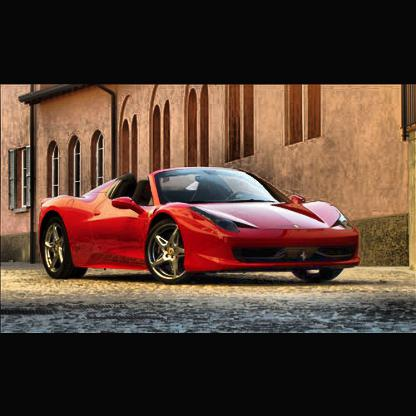Ferrari 458 Italia Convertible 2012: (40, 168, 360, 284)
